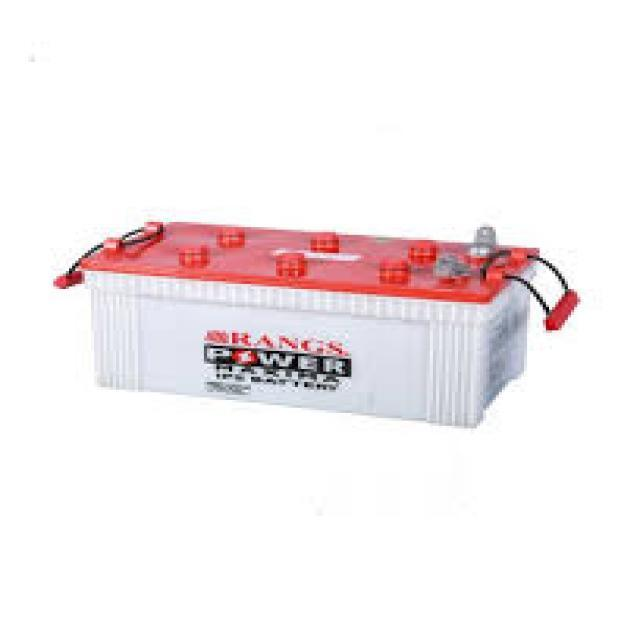battery: (51, 222, 583, 429)
